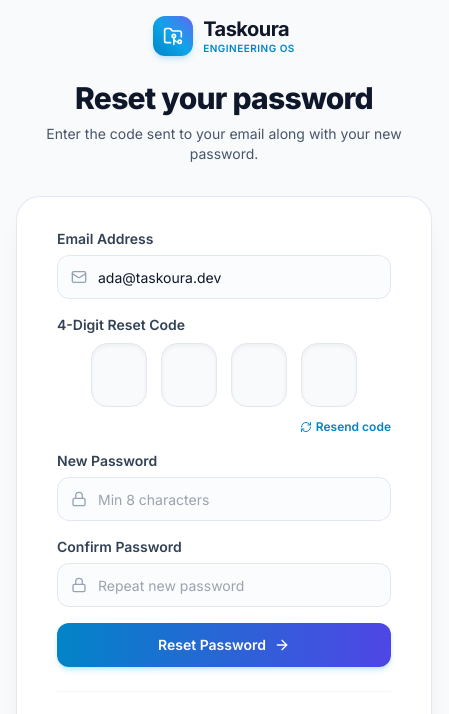
MODULE F16: Profile and Password Reset › ResetPasswordPage: Validation, Error Handling, and Resend Cooldown › blocks submission when password is under 8 characters
Step 1. Type "1" into the field named "Digit 1" → x=119, y=375, box x1=91 y1=343 x2=147 y2=407
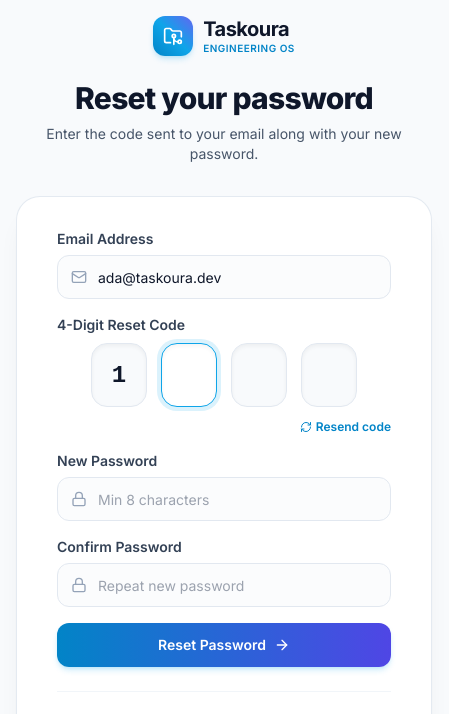
Step 2. Type "2" into the field named "Digit 2" → x=189, y=375, box x1=161 y1=343 x2=217 y2=407
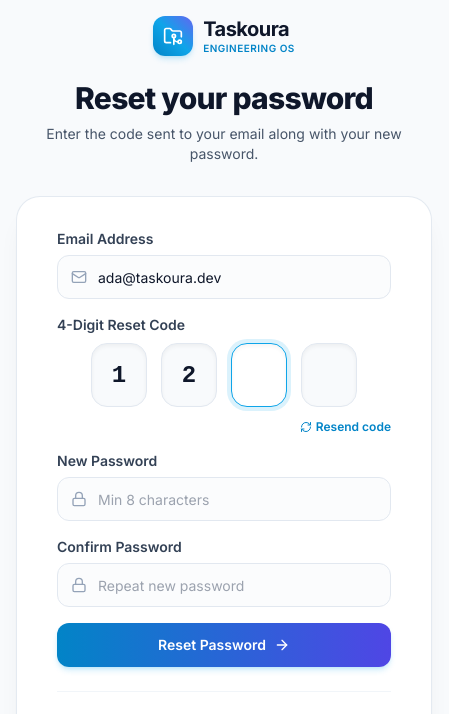
Step 3. Type "3" into the field named "Digit 3" → x=259, y=375, box x1=231 y1=343 x2=287 y2=407
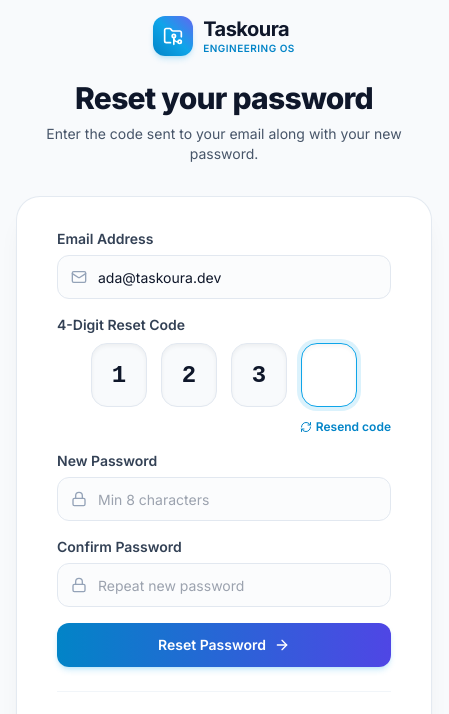
Step 4. Type "4" into the field named "Digit 4" → x=329, y=375, box x1=301 y1=343 x2=357 y2=407
Step 5. Type "short" into the password field with test id "input-new-password" → x=224, y=499, box x1=57 y1=477 x2=391 y2=521
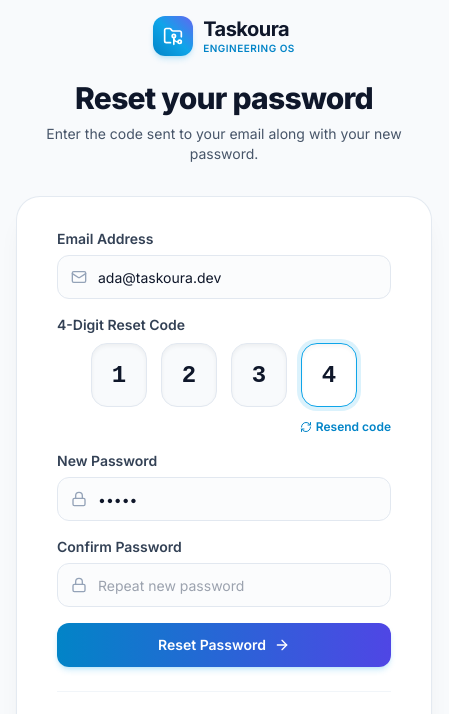
Step 6. Type "short" into the password field with test id "input-confirm-password" → x=224, y=585, box x1=57 y1=563 x2=391 y2=607
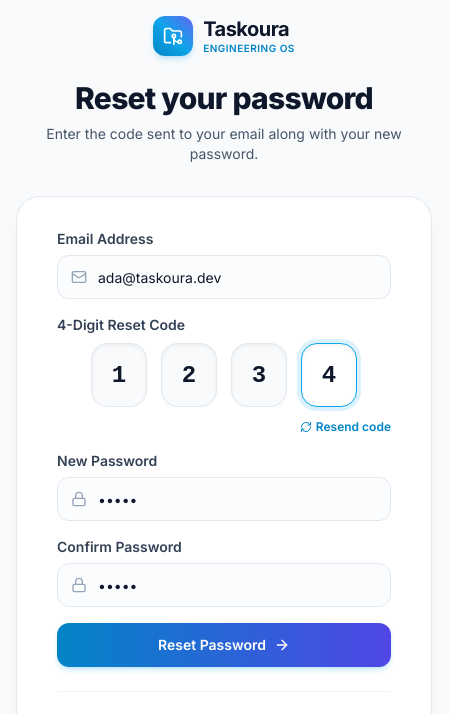
Step 7. Click the button with test id "btn-reset-submit" → x=224, y=645, box x1=57 y1=623 x2=391 y2=667
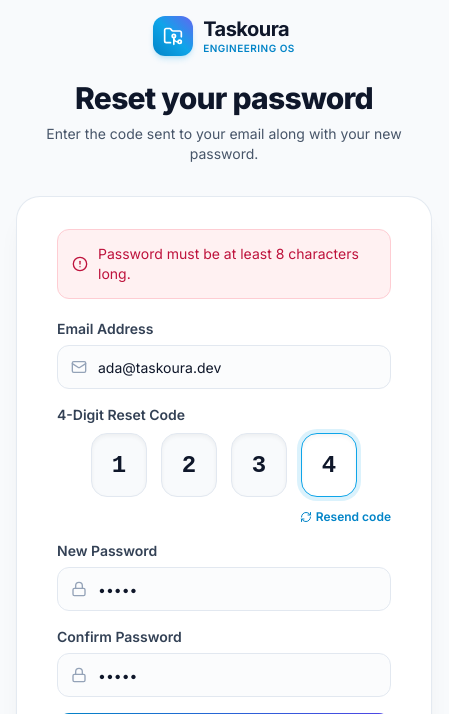
Check: the element with test id "reset-password-error" shows "at least 8 characters", box x1=98 y1=245 x2=359 y2=282
